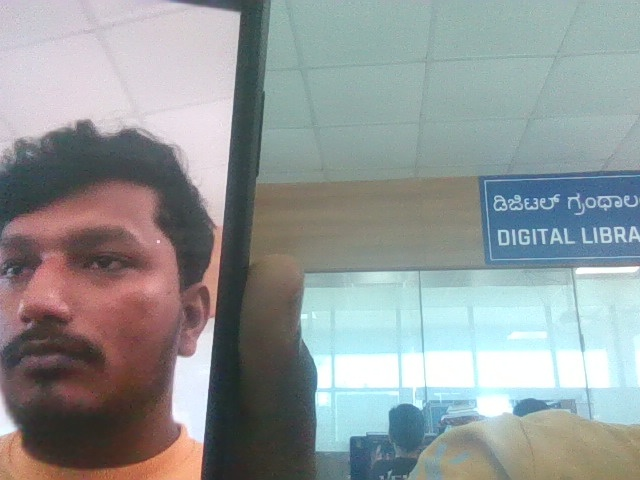fake: (0, 98, 243, 443)
